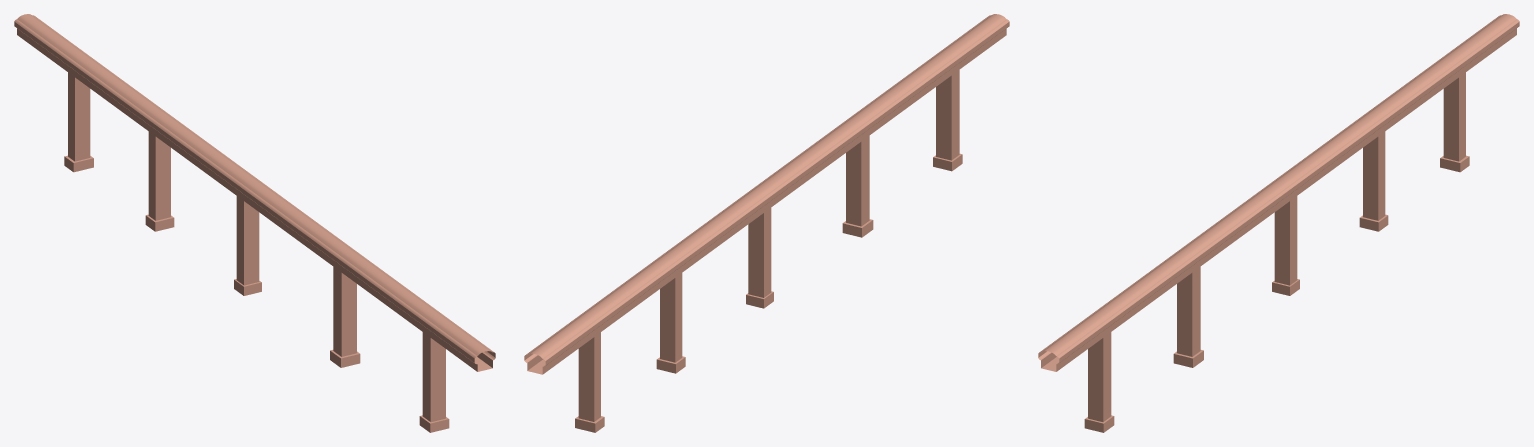
Rendered from Valla_De_Madera_001.fbx.
The picture shows the model from 3 angles, left to right: view 1: azimuth 30°, elevation 25°; view 2: azimuth 150°, elevation 25°; view 3: azimuth 330°, elevation 25°; orthographic projection.
Parts seen in each view (by area): view 1: Vaya_001; view 2: Vaya_001; view 3: Vaya_001.
Part boxes in pixels (x1,y1,x2,y2): Vaya_001: (14,14,495,432); Vaya_001: (524,14,1009,432); Vaya_001: (1038,14,1519,432).
Bounding box in the file's own units: 0.00233 × 0.0119 × 0.0882.
